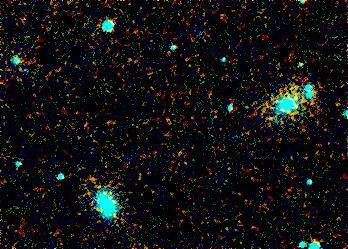star: (322, 93, 348, 123)
